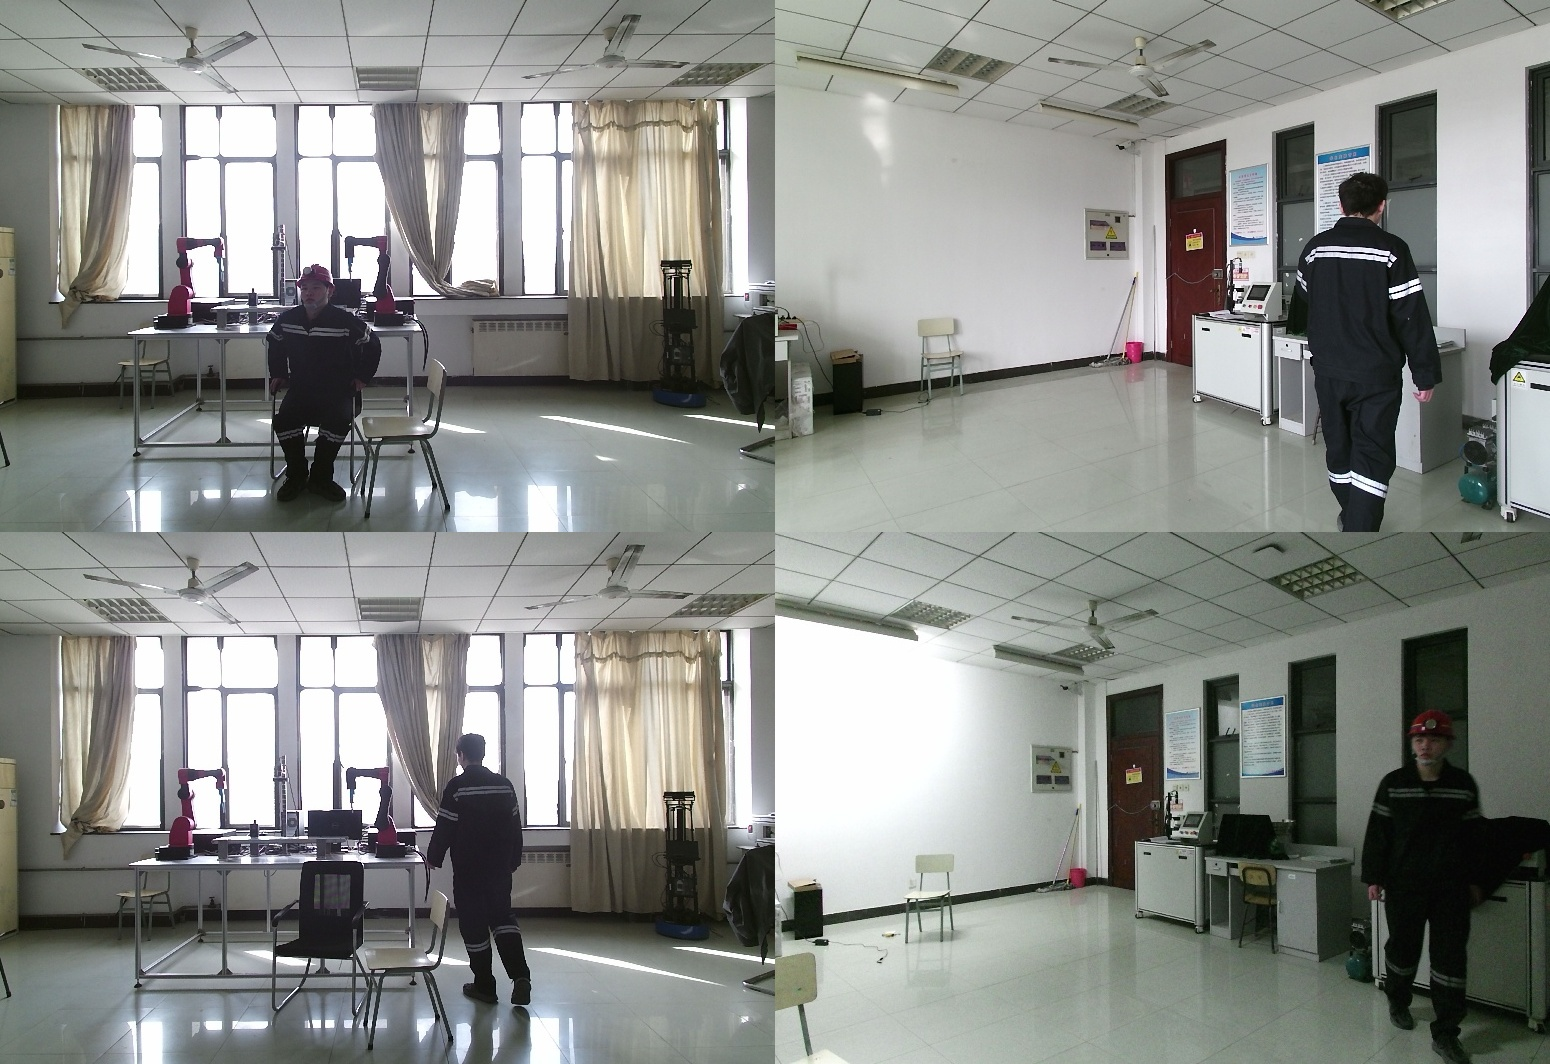person: (1296, 173, 1462, 532), (1366, 715, 1495, 1064), (266, 264, 390, 503), (432, 736, 538, 1006)
